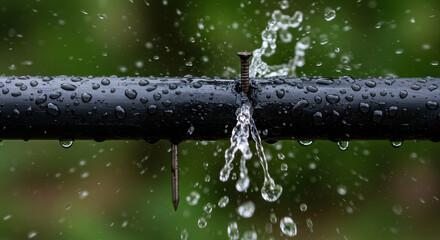pipe burst: (216, 14, 308, 195)
water drop: (281, 217, 298, 236), (238, 203, 256, 218), (334, 139, 351, 151), (226, 223, 238, 239), (297, 137, 314, 147), (186, 193, 199, 205), (218, 195, 230, 208), (389, 139, 406, 148), (58, 139, 74, 148), (241, 231, 257, 240), (324, 10, 335, 22)
